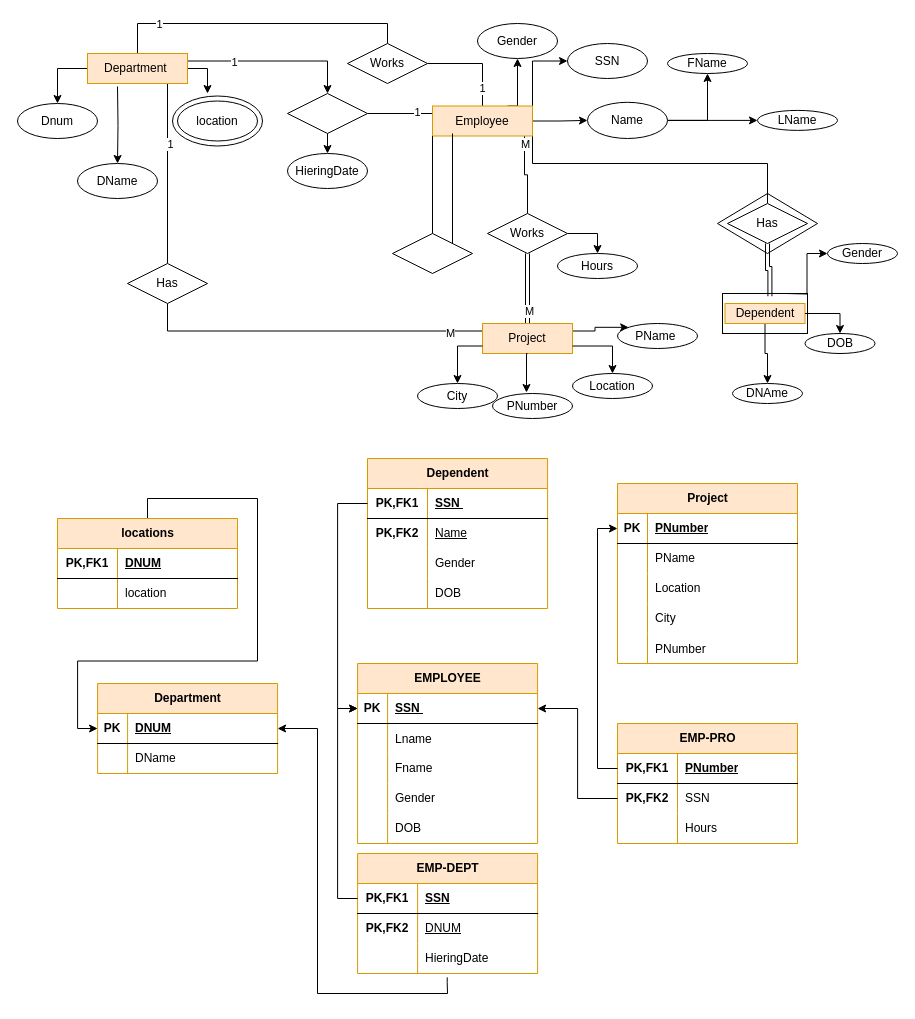
This 915x1019 diagram has some shape labels left out. The shapes that lost their labels are listed below. From the top down, each one's centre as x and y in pixels, then its label:
(x=327, y=113): Manages
(x=432, y=253): Supervises
